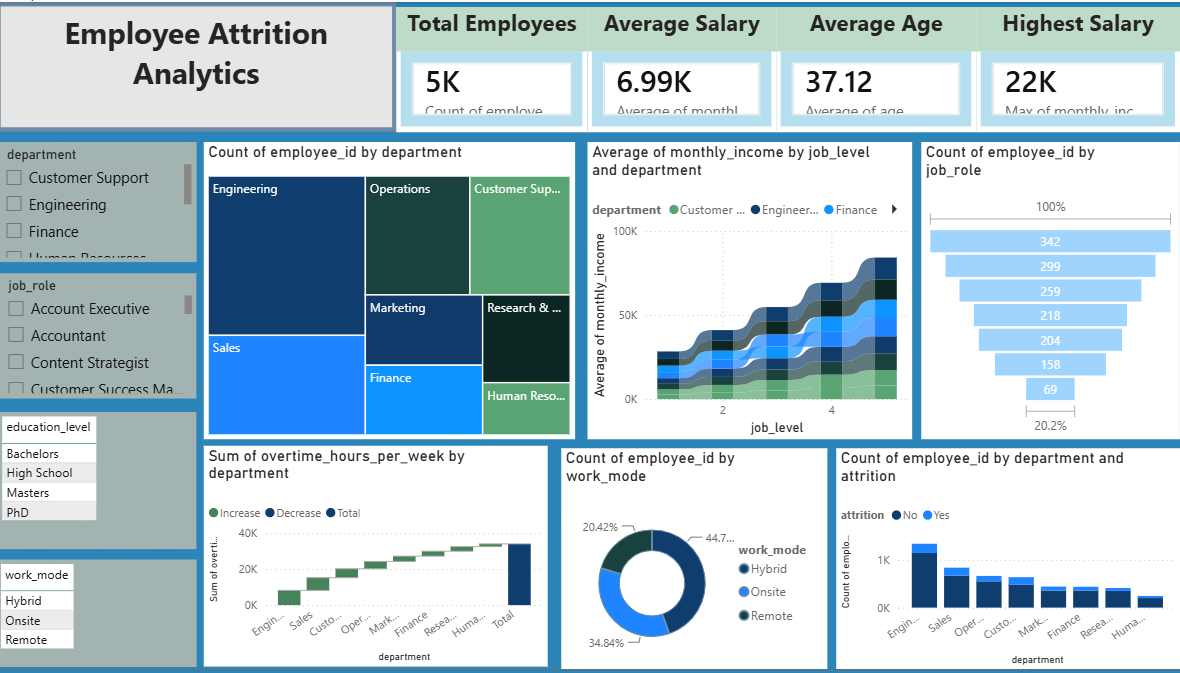

The dashboard page shown, as its layout file describes it:
{"tool":"powerbi","page":{"name":"empattrdashboard","canvas":[1280,720],"ordinal":0},"visuals":[{"type":"textbox","box":[1.3,0,431.7,140.3],"z":0},{"type":"cardVisual","title":"Total Employees","fields":{"Data":["Count(employee_attrition_hr_2026.employee_id)"]},"box":[433.1,5.4,206.4,134.9],"z":1000},{"type":"cardVisual","title":"Average Salary","fields":{"Data":["Avg(employee_attrition_hr_2026.monthly_income)"]},"box":[639.5,5.4,203.7,134.9],"z":2000},{"type":"cardVisual","title":"Average Age","fields":{"Data":["Avg(employee_attrition_hr_2026.age)"]},"box":[843.2,5.4,215.9,134.9],"z":3000},{"type":"cardVisual","title":"Highest Salary","fields":{"Data":["Max(employee_attrition_hr_2026.monthly_income)"]},"box":[1059,5.4,219.9,134.9],"z":4000},{"type":"slicer","fields":{"Values":["employee_attrition_hr_2026.department"]},"box":[0,151.1,217.2,129.5],"z":5000},{"type":"slicer","fields":{"Values":["employee_attrition_hr_2026.job_role"]},"box":[1.3,292.7,215.9,134.9],"z":6000},{"type":"tableEx","fields":{"Values":["employee_attrition_hr_2026.education_level"]},"box":[1.3,442.5,215.9,148.4],"z":7000},{"type":"tableEx","fields":{"Values":["employee_attrition_hr_2026.work_mode"]},"box":[0,601.7,217.2,116],"z":8000},{"type":"treemap","fields":{"Group":["employee_attrition_hr_2026.department"],"Values":["CountNonNull(employee_attrition_hr_2026.employee_id)"]},"box":[225.3,151.1,400.7,321.1],"z":9000},{"type":"ribbonChart","fields":{"Category":["employee_attrition_hr_2026.job_level"],"Y":["Avg(employee_attrition_hr_2026.monthly_income)"],"Series":["employee_attrition_hr_2026.department"]},"box":[639.5,151.1,350.8,321.1],"z":10000},{"type":"funnel","fields":{"Y":["CountNonNull(employee_attrition_hr_2026.employee_id)"],"Category":["employee_attrition_hr_2026.job_role"]},"box":[999.7,151.1,279.3,321.1],"z":11000},{"type":"waterfallChart","fields":{"Category":["employee_attrition_hr_2026.department"],"Y":["Sum(employee_attrition_hr_2026.overtime_hours_per_week)"]},"box":[225.3,478.9,371,238.8],"z":12000},{"type":"donutChart","fields":{"Category":["employee_attrition_hr_2026.work_mode"],"Y":["CountNonNull(employee_attrition_hr_2026.employee_id)"]},"box":[611.1,481.6,287.4,238.8],"z":13000},{"type":"columnChart","fields":{"Category":["employee_attrition_hr_2026.department"],"Y":["CountNonNull(employee_attrition_hr_2026.employee_id)"],"Series":["employee_attrition_hr_2026.attrition"]},"box":[907.9,481.6,372.3,238.8],"z":14000}]}

Visuals, with their boxes in screenshot pixels (x1, y1, x2, y2), scaled from the page's 1280x720 canvas onto the 1180x673 screenshot:
textbox: (1, 0, 399, 131)
"Total Employees" cardVisual: (399, 5, 590, 131)
"Average Salary" cardVisual: (590, 5, 777, 131)
"Average Age" cardVisual: (777, 5, 976, 131)
"Highest Salary" cardVisual: (976, 5, 1179, 131)
slicer - employee_attrition_hr_2026.department: (0, 141, 200, 262)
slicer - employee_attrition_hr_2026.job_role: (1, 274, 200, 400)
tableEx - employee_attrition_hr_2026.education_level: (1, 414, 200, 552)
tableEx - employee_attrition_hr_2026.work_mode: (0, 562, 200, 671)
treemap - employee_attrition_hr_2026.department x CountNonNull(employee_attrition_hr_2026.employee_id): (208, 141, 577, 441)
ribbonChart - employee_attrition_hr_2026.job_level x Avg(employee_attrition_hr_2026.monthly_income): (590, 141, 913, 441)
funnel - CountNonNull(employee_attrition_hr_2026.employee_id) x employee_attrition_hr_2026.job_role: (922, 141, 1179, 441)
waterfallChart - employee_attrition_hr_2026.department x Sum(employee_attrition_hr_2026.overtime_hours_per_week): (208, 448, 550, 671)
donutChart - employee_attrition_hr_2026.work_mode x CountNonNull(employee_attrition_hr_2026.employee_id): (563, 450, 828, 672)
columnChart - employee_attrition_hr_2026.department x CountNonNull(employee_attrition_hr_2026.employee_id): (837, 450, 1179, 672)
